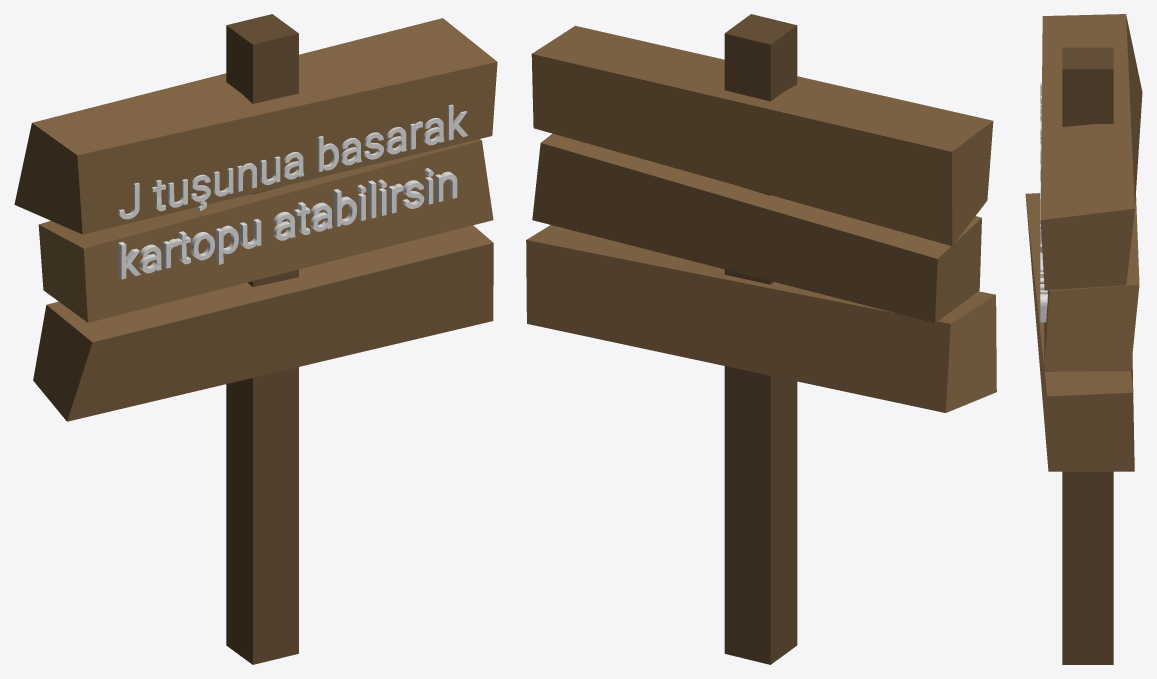
3 renders of one model, left to right at view 1: azimuth 30°, elevation 25°; view 2: azimuth 150°, elevation 25°; view 3: azimuth 270°, elevation 25°, orthographic. The views are drawn at different scales.
Parts seen in each view (by area): view 1: Cube.001, Cube.003, Cube.002, Cube, Text; view 2: Cube.001, Cube.003, Cube.002, Cube; view 3: Cube.001, Cube, Cube.003, Cube.002, Text.
Part boxes in pixels (x1=…): Cube.001: x1=14, y1=18, x2=497, y2=234; Cube.003: x1=33, y1=225, x2=493, y2=421; Cube.002: x1=38, y1=139, x2=493, y2=322; Cube: x1=226, y1=14, x2=298, y2=664; Text: x1=118, y1=104, x2=467, y2=279; Cube.001: x1=531, y1=25, x2=993, y2=245; Cube.003: x1=526, y1=225, x2=996, y2=412; Cube.002: x1=532, y1=133, x2=981, y2=322; Cube: x1=724, y1=14, x2=797, y2=664; Cube.001: x1=1040, y1=14, x2=1142, y2=290; Cube: x1=1062, y1=47, x2=1113, y2=664; Cube.003: x1=1025, y1=193, x2=1134, y2=471; Cube.002: x1=1044, y1=195, x2=1139, y2=371; Text: x1=1040, y1=83, x2=1047, y2=322.
Size of the model in its own units: 198 by 272 by 48.44.
